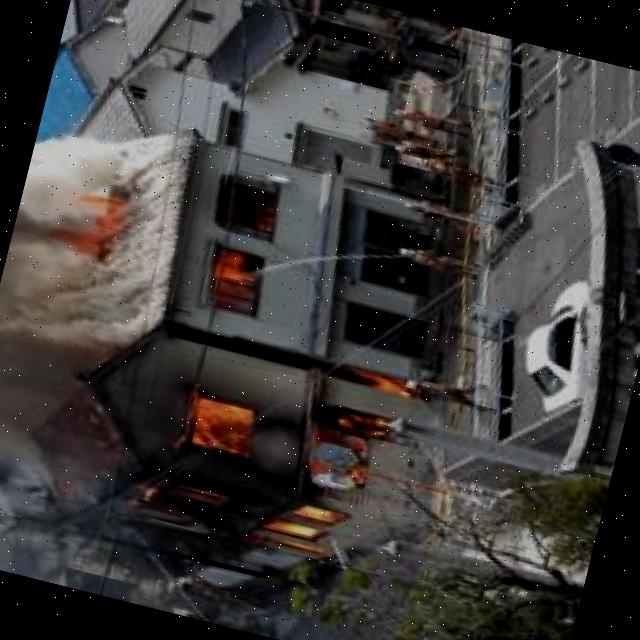fire: (120, 304, 456, 586), (45, 164, 140, 268), (207, 223, 276, 309)
